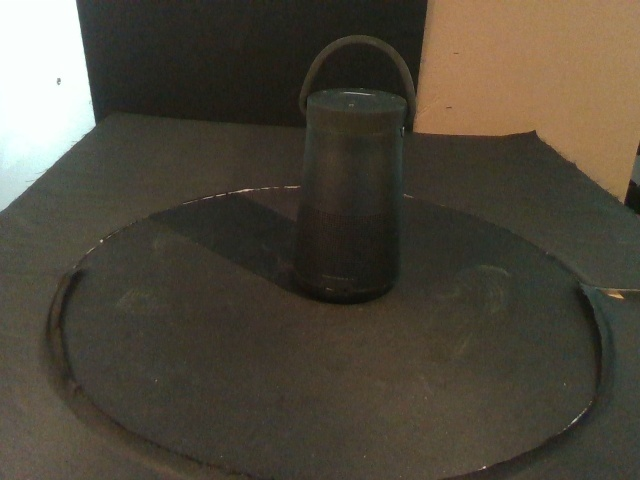speaker: (294, 86, 406, 306)
